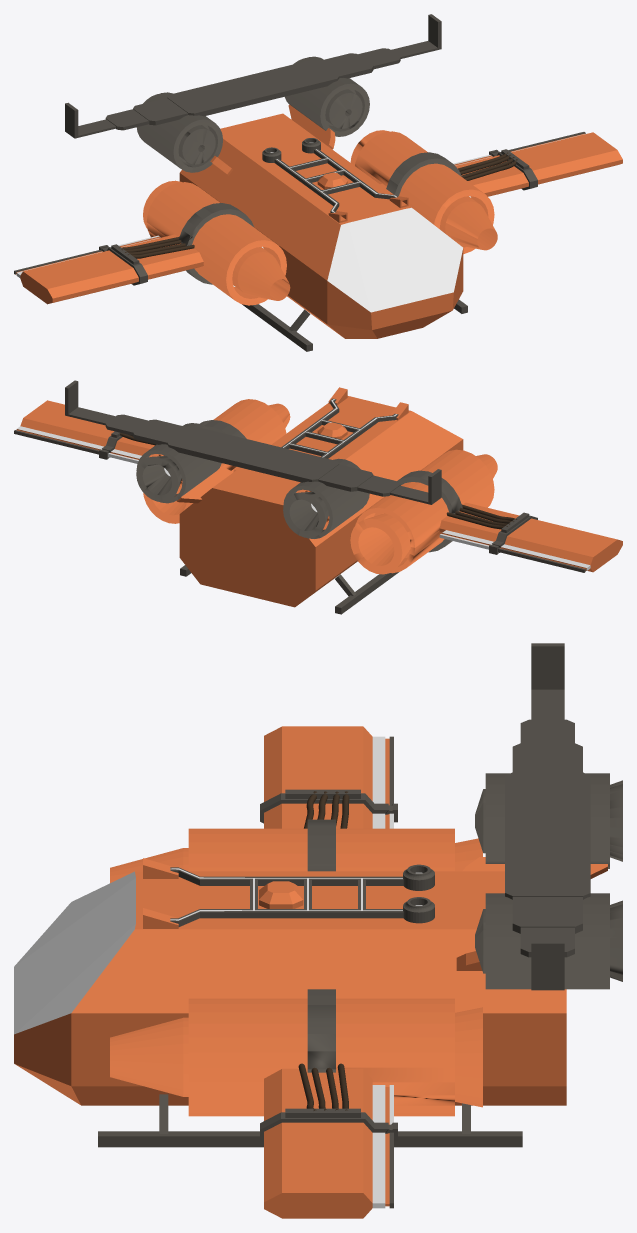
File: atmosphereHeavyJ.fbx
The picture shows the model from 3 angles, top to bottom: view 1: azimuth 30°, elevation 25°; view 2: azimuth 150°, elevation 25°; view 3: azimuth 270°, elevation 25°; orthographic projection. The views are drawn at different scales.
Visible parts, largest first — view 1: AtmosphereHeavyJ; view 2: AtmosphereHeavyJ; view 3: AtmosphereHeavyJ.
Part boxes in pixels (x1,y1,x2,y2): AtmosphereHeavyJ: (14, 14, 622, 351); AtmosphereHeavyJ: (14, 380, 622, 614); AtmosphereHeavyJ: (14, 643, 622, 1218).
Bounding box in the file's own units: 333 × 95.88 × 184.
